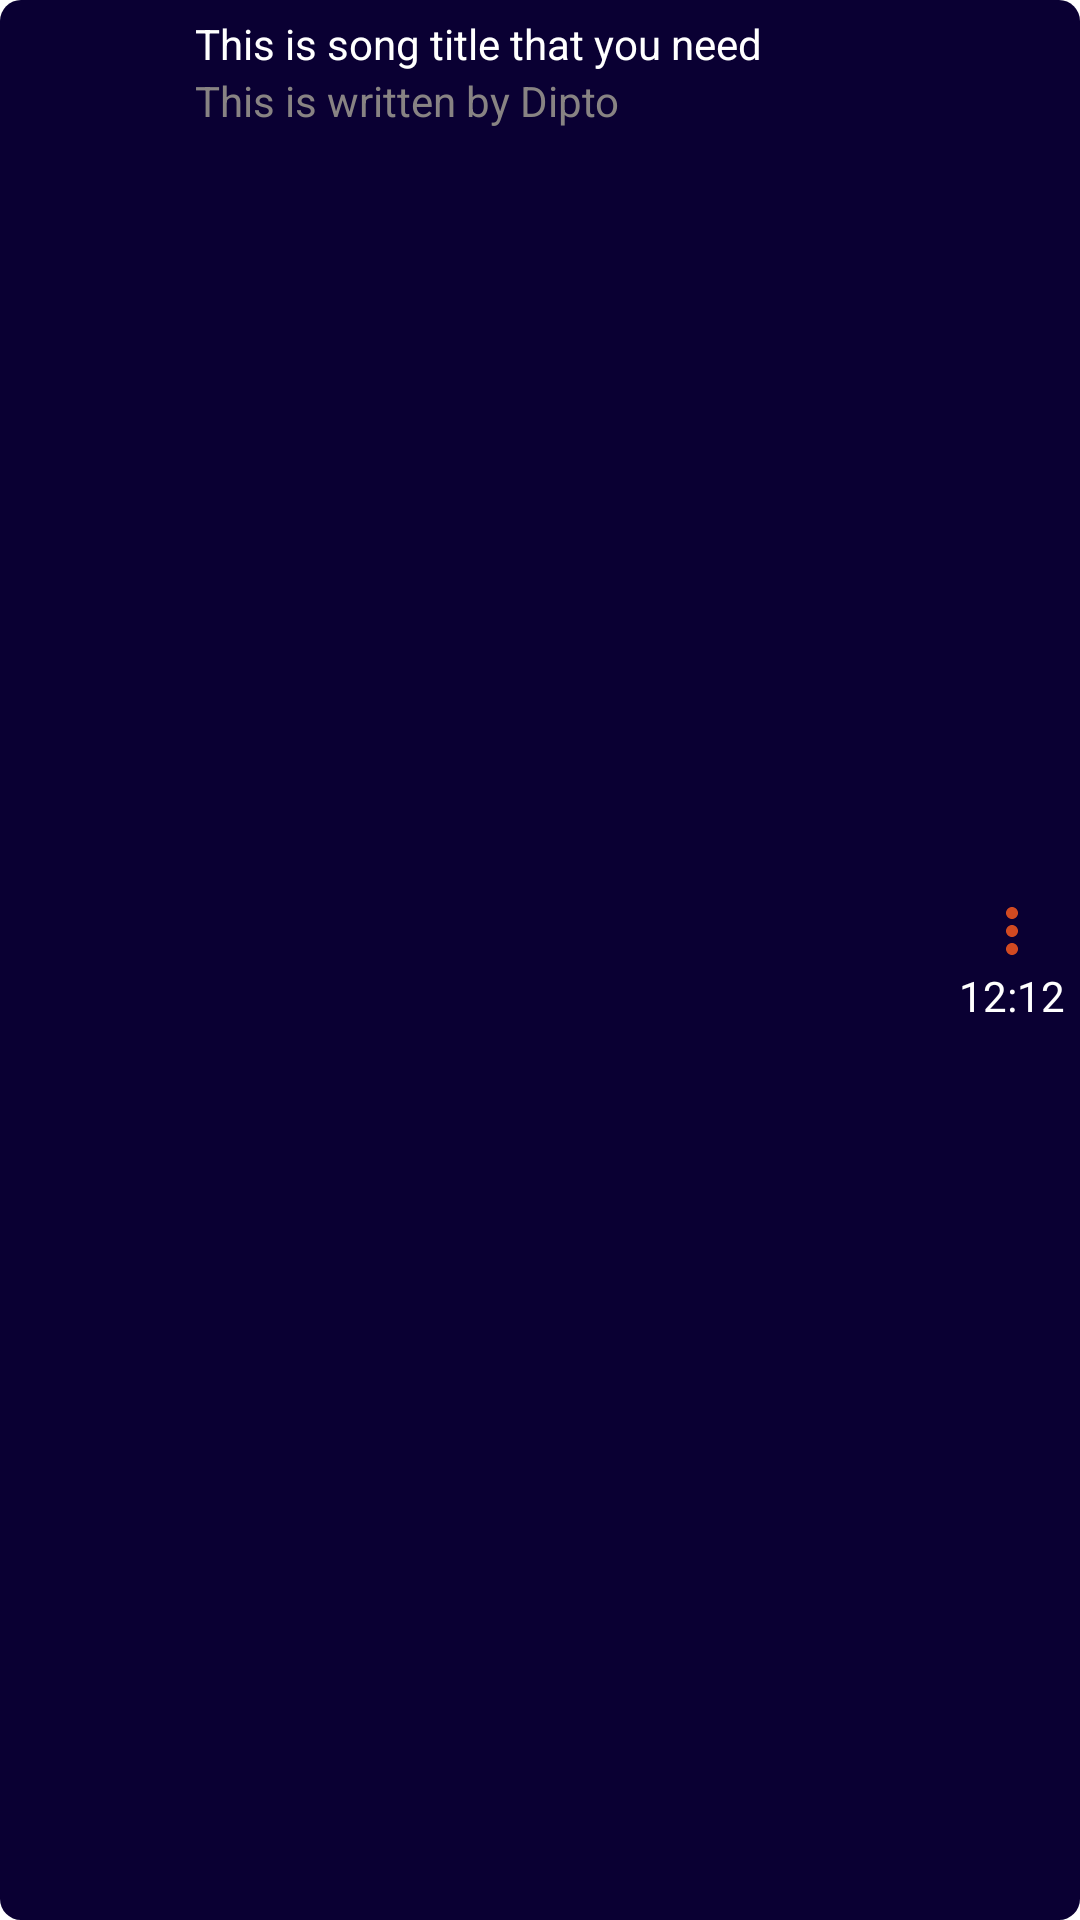

Screen size 1080×1920. Icon name, then its center in pixels as (x=x, y=y):
more: (x=1012, y=931)
